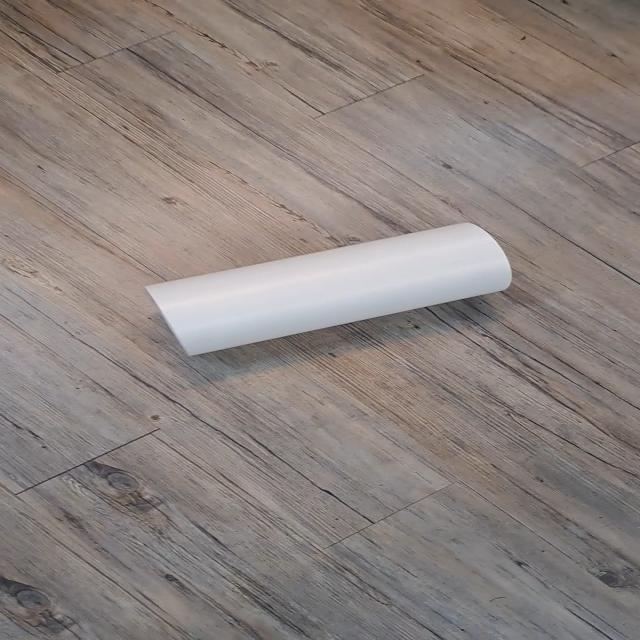CORAL: (137, 212, 528, 377)
